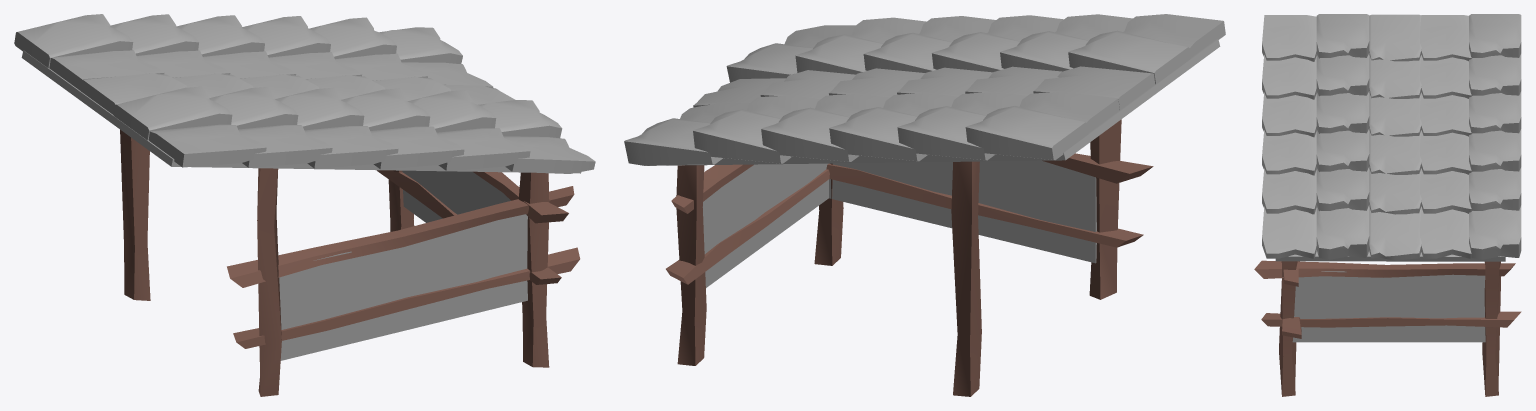
3 views of the same model, side by side, from view 1: azimuth 30°, elevation 25°; view 2: azimuth 150°, elevation 25°; view 3: azimuth 270°, elevation 25° (orthographic). The views are drawn at different scales.
Visible parts, largest first — view 1: SM_B02, SM_B01_Tile_309, SM_B01_Tile_311, SM_B01_Tile_307, SM_B01_Tile_326, SM_B01_Tile_316, SM_B01_Tile_331, SM_B01_Tile_321, SM_B01_Tile_310, SM_B01_Tile_336, SM_B01_Tile_315, SM_B01_Tile_325 (+19 smaller); view 2: SM_B02, SM_B01_Tile_311, SM_B01_Tile_309, SM_B01_Tile_327, SM_B01_Tile_322, SM_B01_Tile_312, SM_B01_Tile_317, SM_B01_Tile_332, SM_B01_Tile_308, SM_B01_Tile_307, SM_B01_Tile_315, SM_B01_Tile_325 (+19 smaller); view 3: SM_B02, SM_B01_Tile_335, SM_B01_Tile_332, SM_B01_Tile_336, SM_B01_Tile_307, SM_B01_Tile_308, SM_B01_Tile_334, SM_B01_Tile_309, SM_B01_Tile_311, SM_B01_Tile_333, SM_B01_Tile_310, SM_B01_Tile_331 (+19 smaller).
Part boxes in pixels (bbox=[...]): SM_B02: bbox=[21, 50, 581, 396]; SM_B01_Tile_309: bbox=[113, 86, 232, 140]; SM_B01_Tile_311: bbox=[14, 14, 133, 67]; SM_B01_Tile_307: bbox=[148, 124, 266, 167]; SM_B01_Tile_326: bbox=[370, 126, 464, 169]; SM_B01_Tile_316: bbox=[238, 125, 332, 167]; SM_B01_Tile_331: bbox=[437, 128, 530, 170]; SM_B01_Tile_321: bbox=[304, 126, 398, 168]; SM_B01_Tile_310: bbox=[49, 50, 164, 90]; SM_B01_Tile_336: bbox=[503, 136, 595, 173]; SM_B01_Tile_315: bbox=[209, 87, 298, 129]; SM_B01_Tile_325: bbox=[341, 88, 430, 130]; SM_B02: bbox=[647, 39, 1220, 396]; SM_B01_Tile_311: bbox=[965, 106, 1088, 160]; SM_B01_Tile_309: bbox=[1068, 30, 1191, 84]; SM_B01_Tile_327: bbox=[693, 109, 791, 163]; SM_B01_Tile_322: bbox=[761, 107, 858, 161]; SM_B01_Tile_312: bbox=[897, 106, 995, 160]; SM_B01_Tile_317: bbox=[829, 107, 927, 161]; SM_B01_Tile_332: bbox=[624, 118, 722, 165]; SM_B01_Tile_308: bbox=[1033, 66, 1155, 109]; SM_B01_Tile_307: bbox=[1123, 14, 1225, 57]; SM_B01_Tile_315: bbox=[1000, 31, 1088, 71]; SM_B01_Tile_325: bbox=[863, 32, 951, 72]; SM_B02: bbox=[1254, 250, 1521, 396]; SM_B01_Tile_335: bbox=[1316, 205, 1369, 259]; SM_B01_Tile_332: bbox=[1469, 205, 1521, 259]; SM_B01_Tile_336: bbox=[1262, 206, 1316, 258]; SM_B01_Tile_307: bbox=[1262, 15, 1316, 61]; SM_B01_Tile_308: bbox=[1369, 14, 1421, 61]; SM_B01_Tile_334: bbox=[1369, 207, 1421, 260]; SM_B01_Tile_309: bbox=[1316, 14, 1369, 58]; SM_B01_Tile_311: bbox=[1469, 14, 1521, 58]; SM_B01_Tile_333: bbox=[1420, 206, 1471, 258]; SM_B01_Tile_310: bbox=[1420, 15, 1471, 61]; SM_B01_Tile_331: bbox=[1262, 168, 1316, 214].
Size of the model in its own units: 6.05 by 4.37 by 4.32.
